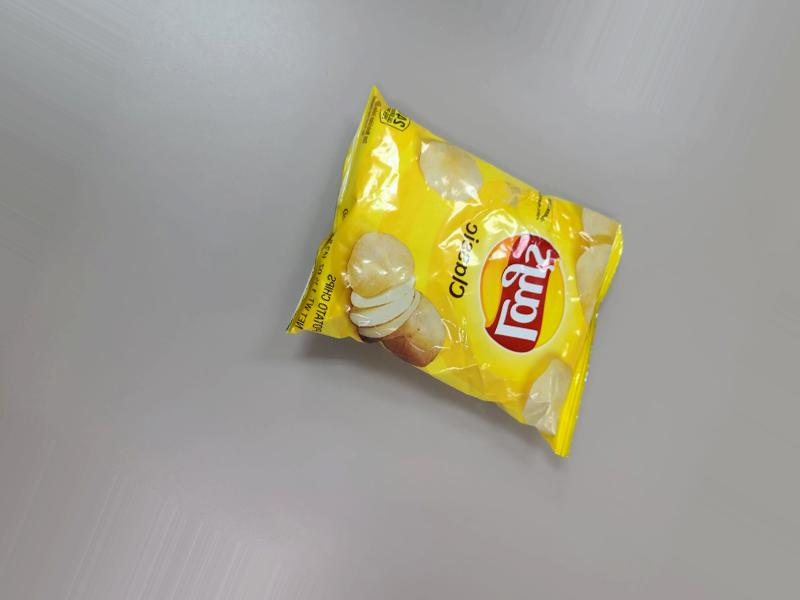lays: (264, 53, 615, 507)
